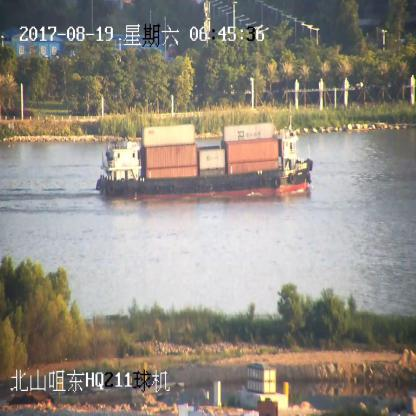Container Ship: (98, 119, 314, 200)
